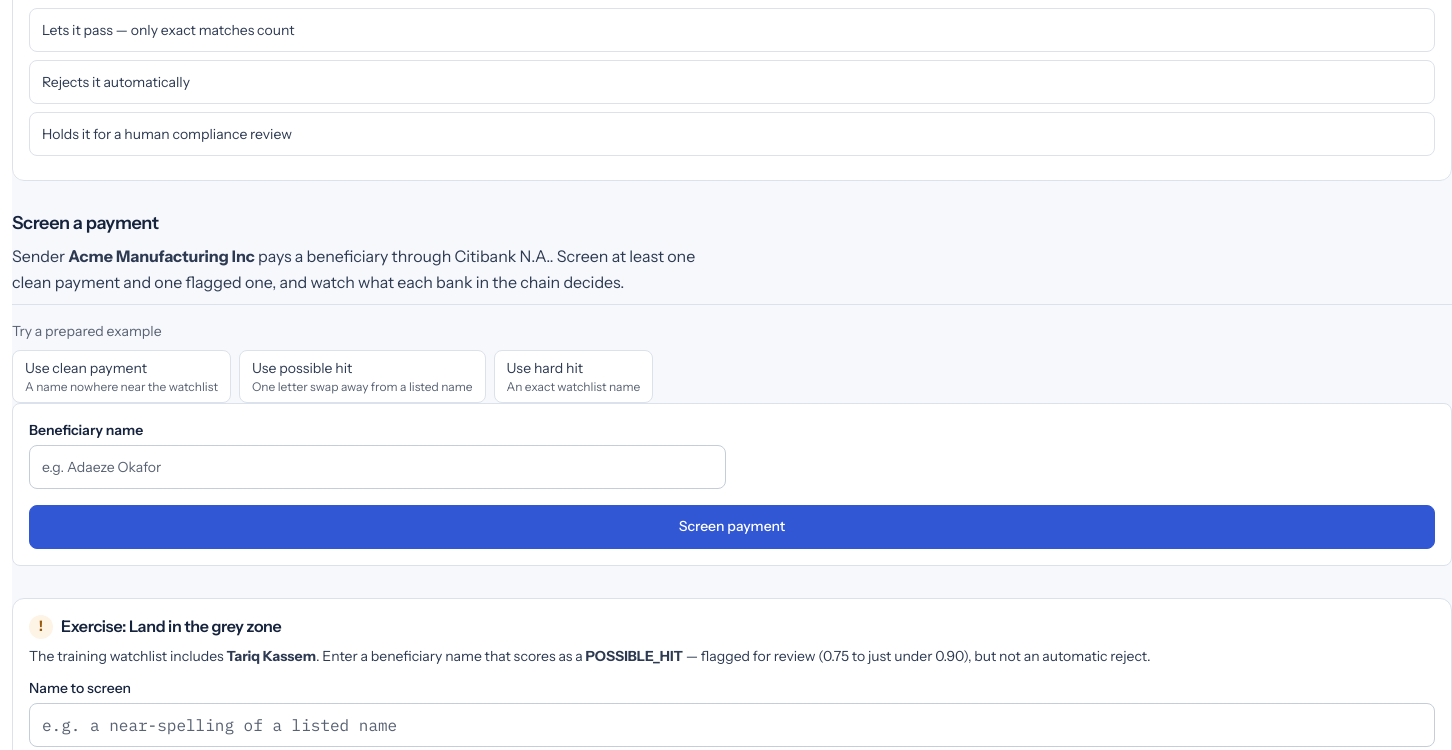
Test case: SanctionsContent › shows an error when screening fails
The image size is (1452, 750).
(page scrolled)
Click the button "Use clean payment A name nowhere near the watchlist" at x=121, y=376, box [12,350,231,403]
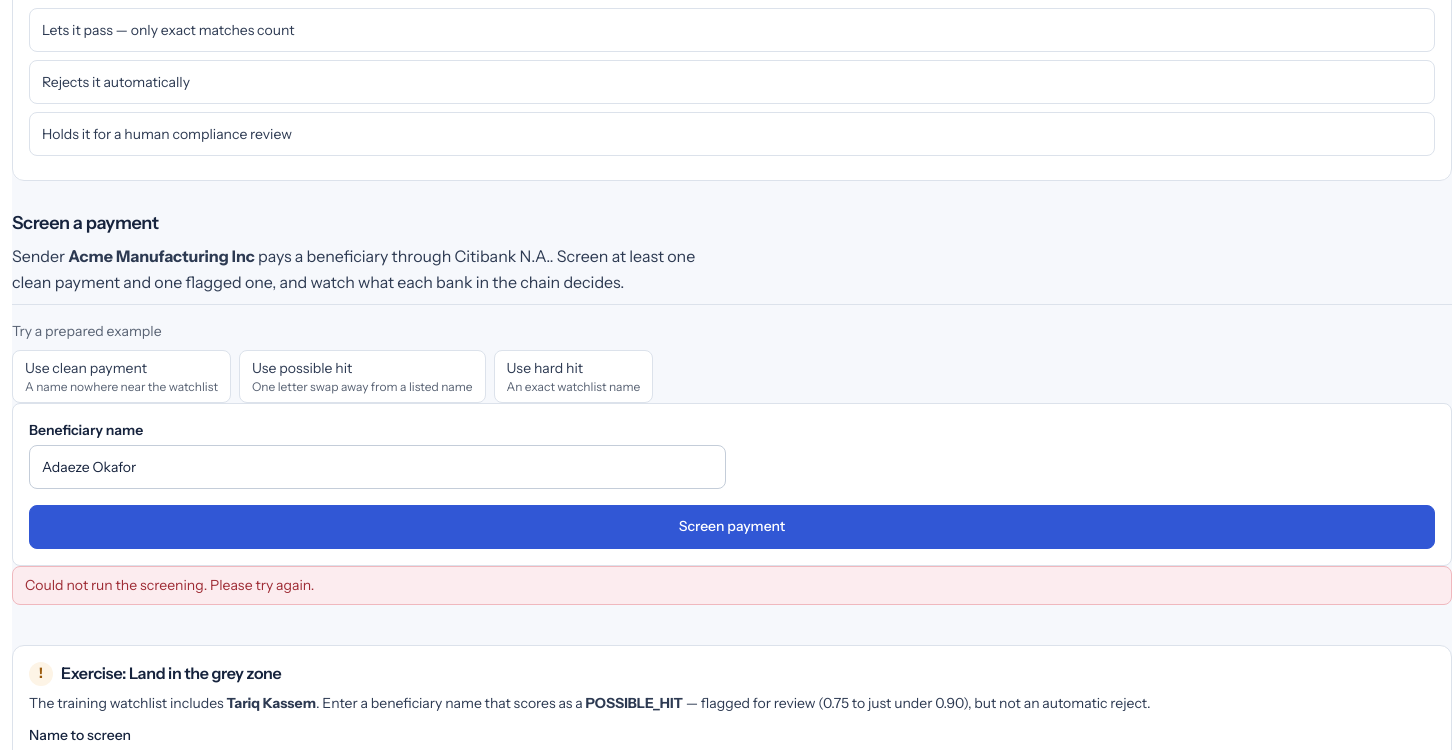
Check: the message shows "Could not run", box [25,576,314,594]
